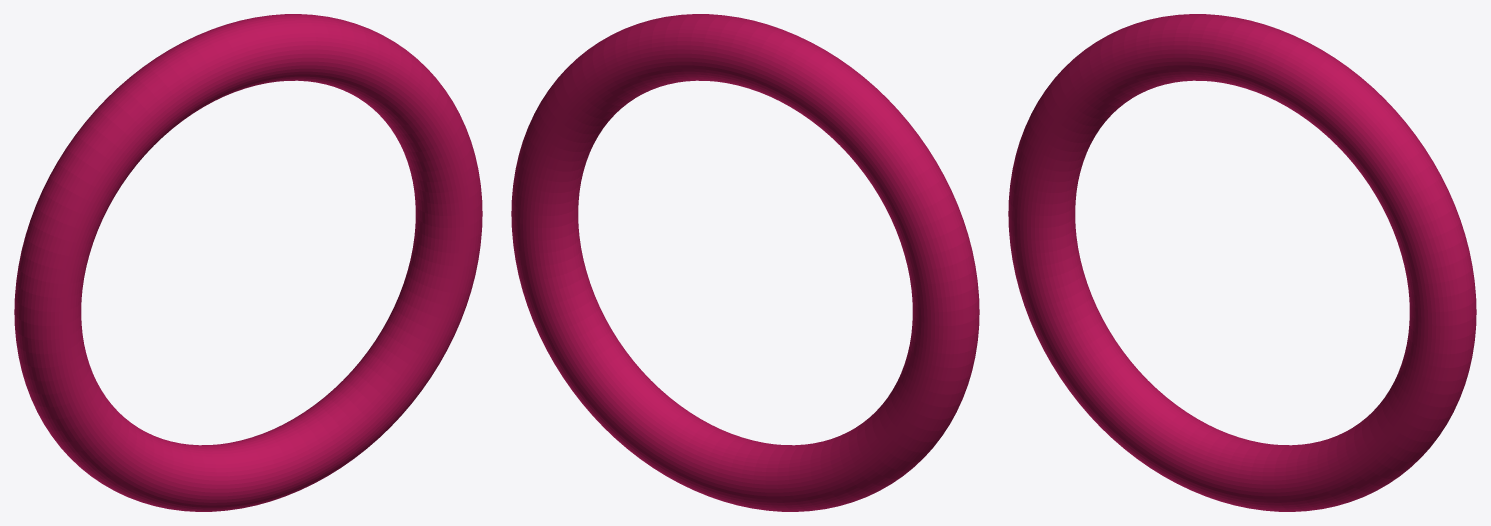
The picture shows the model from 3 angles, left to right: view 1: azimuth 30°, elevation 25°; view 2: azimuth 150°, elevation 25°; view 3: azimuth 330°, elevation 25°; orthographic projection.
Parts seen in each view (by area): view 1: world; view 2: world; view 3: world.
Part boxes in pixels (x1=…): world: x1=14, y1=14, x2=482, y2=511; world: x1=511, y1=14, x2=979, y2=511; world: x1=1008, y1=14, x2=1476, y2=511.
Bounding box in the file's own units: 32.8 × 32.8 × 4.13.
